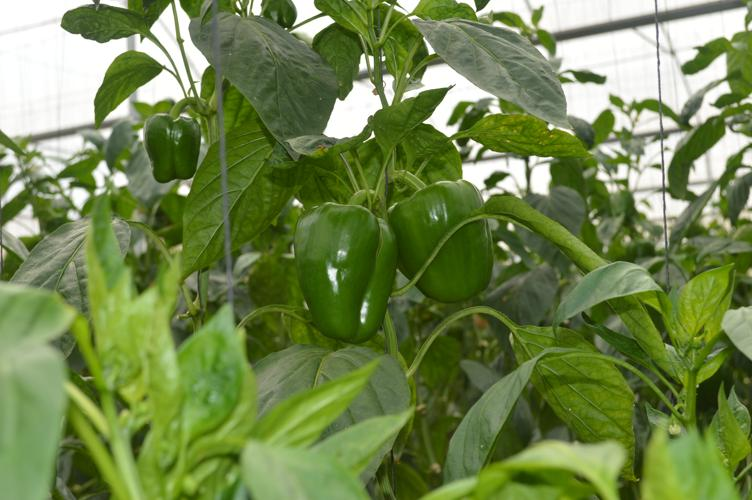BellPepper: (290, 200, 395, 347), (394, 179, 491, 300), (144, 111, 198, 185)
